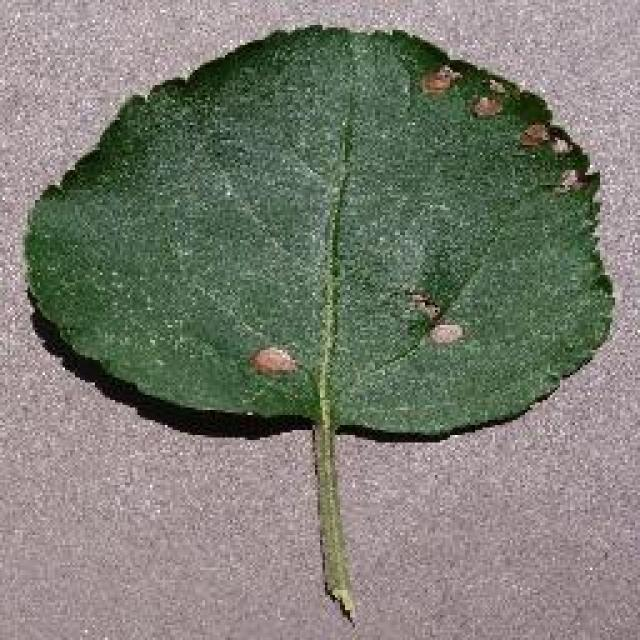Apple___Black_rot: (126, 38, 593, 376)
